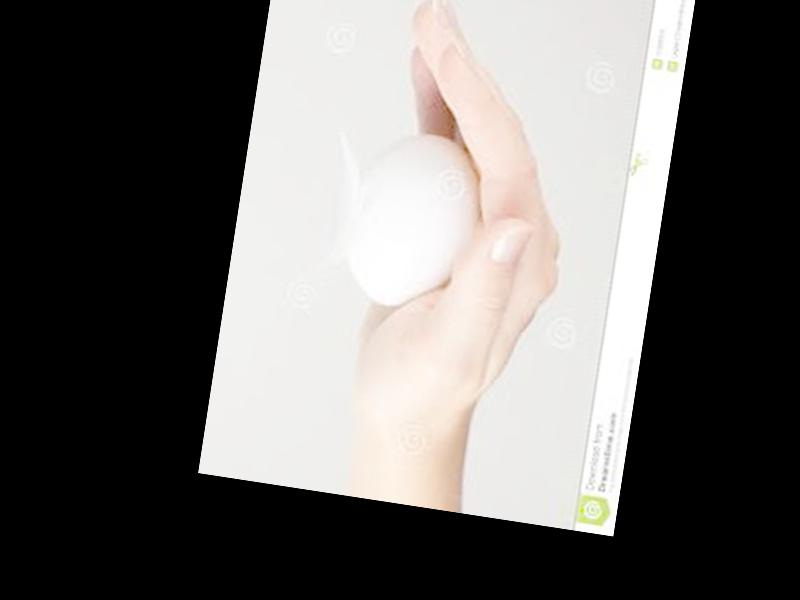Eggs: (341, 122, 489, 318)
